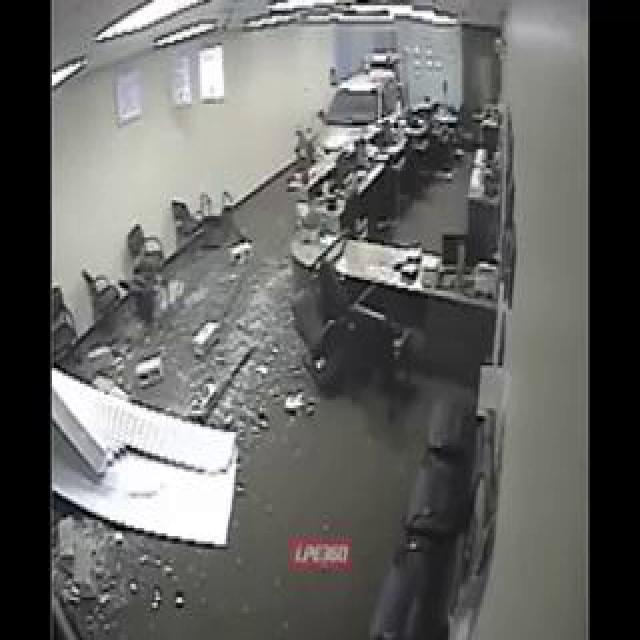burglary: (192, 49, 461, 440)
